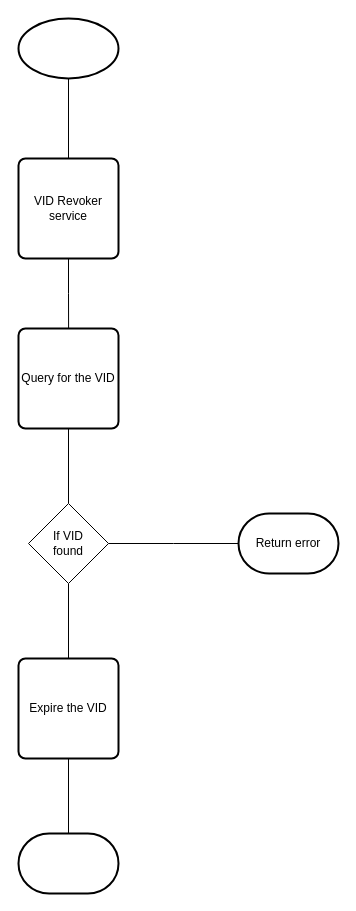
The diagram is 356 pixels wide and 911 high, and some of its shapes have lost their labels. The centre of each missing label's shape, as x and y in pixels:
Return success message: the point at 68,863
Start: the point at 68,48
